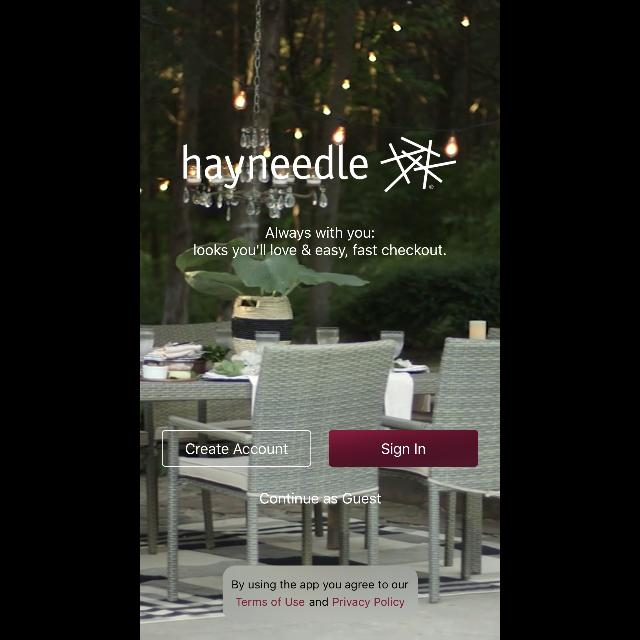backgroundimage: (140, 1, 500, 640)
image: (380, 136, 456, 192)
text: (184, 145, 368, 189), (194, 227, 446, 259), (232, 580, 408, 608), (260, 492, 382, 503)
textbutton: (162, 429, 312, 466), (329, 429, 478, 466)
